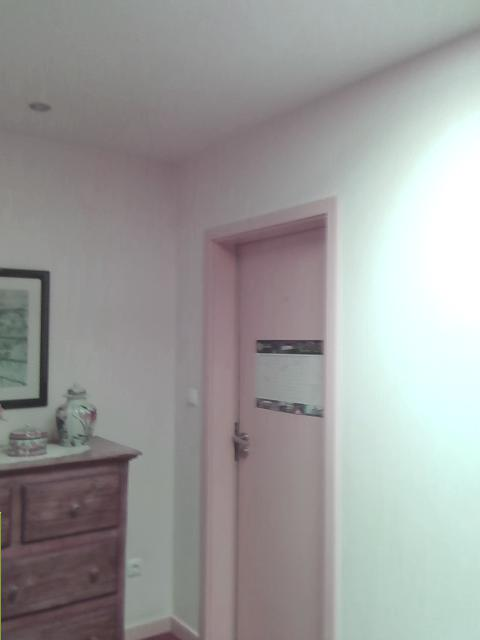closed_door: (196, 194, 338, 639)
